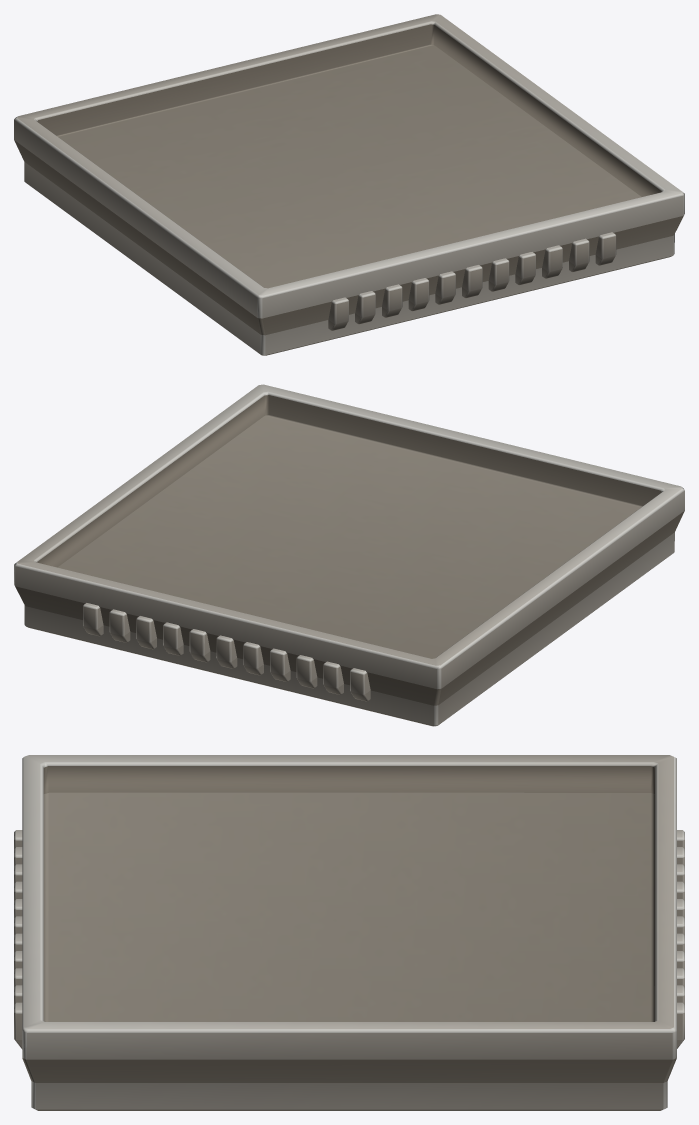
The model's file is office_building_type1_roof_grey.fbx.
3 renders of one model, top to bottom at view 1: azimuth 30°, elevation 25°; view 2: azimuth 150°, elevation 25°; view 3: azimuth 270°, elevation 25°, orthographic. The views are drawn at different scales.
Visible parts, largest first — view 1: office_building_type1_roof_grey; view 2: office_building_type1_roof_grey; view 3: office_building_type1_roof_grey.
Part boxes in pixels (box(x1,y1,x2,y2)): office_building_type1_roof_grey: box(14, 14, 684, 355); office_building_type1_roof_grey: box(14, 384, 684, 726); office_building_type1_roof_grey: box(14, 755, 684, 1110).
Size of the model in its own units: 1600 by 232 by 1640.
